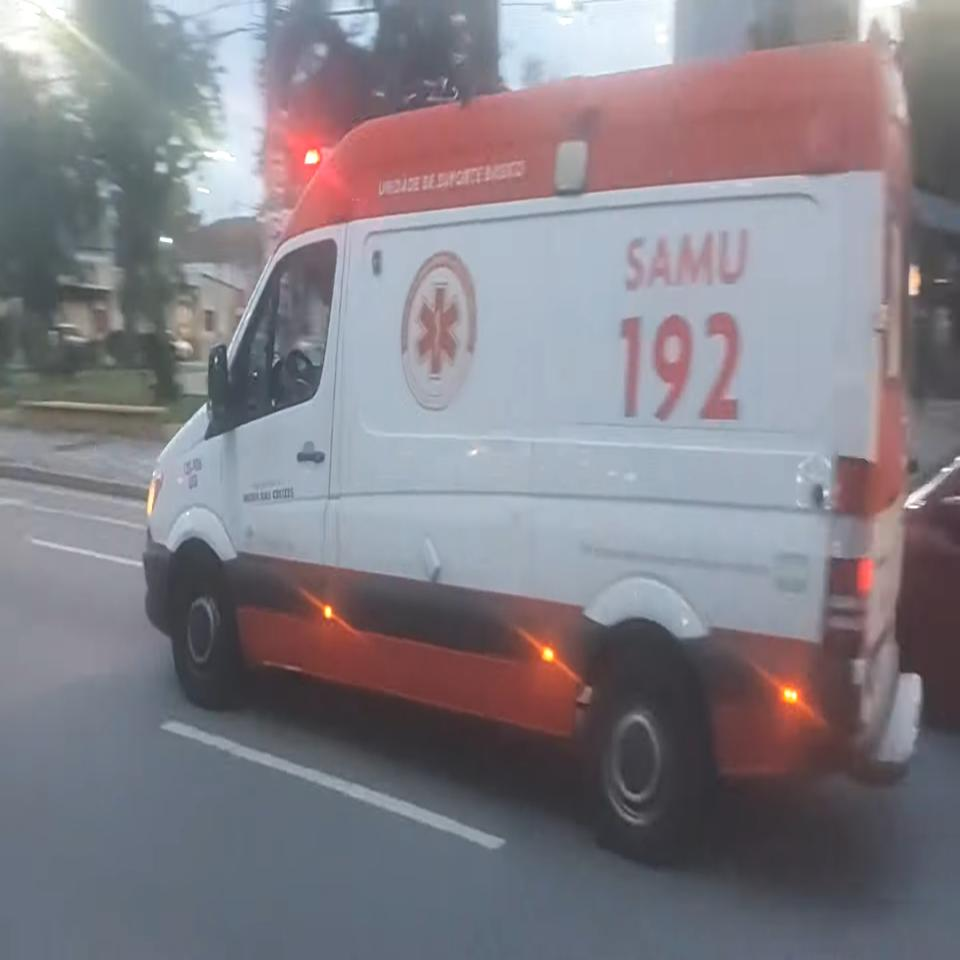ambulancia: (143, 41, 923, 864)
